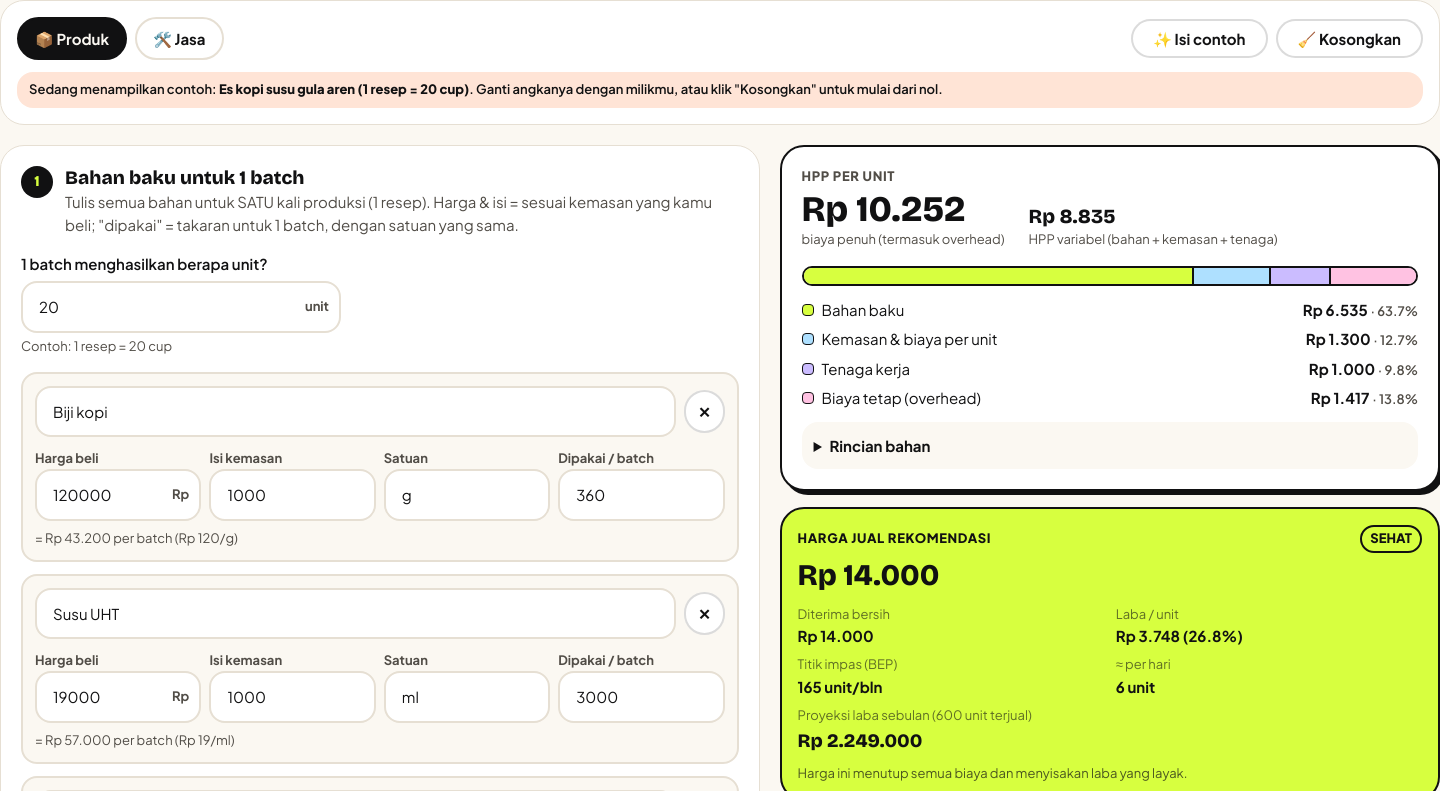
Test: Kalkulator HPP › isian tidak valid menampilkan pesan, bukan crash
The width and height of the screenshot is (1440, 791).
Replace the text in the number field labelled "1 batch menghasilkan berapa unit?" with "0" at (181, 307), box [21, 281, 341, 333]
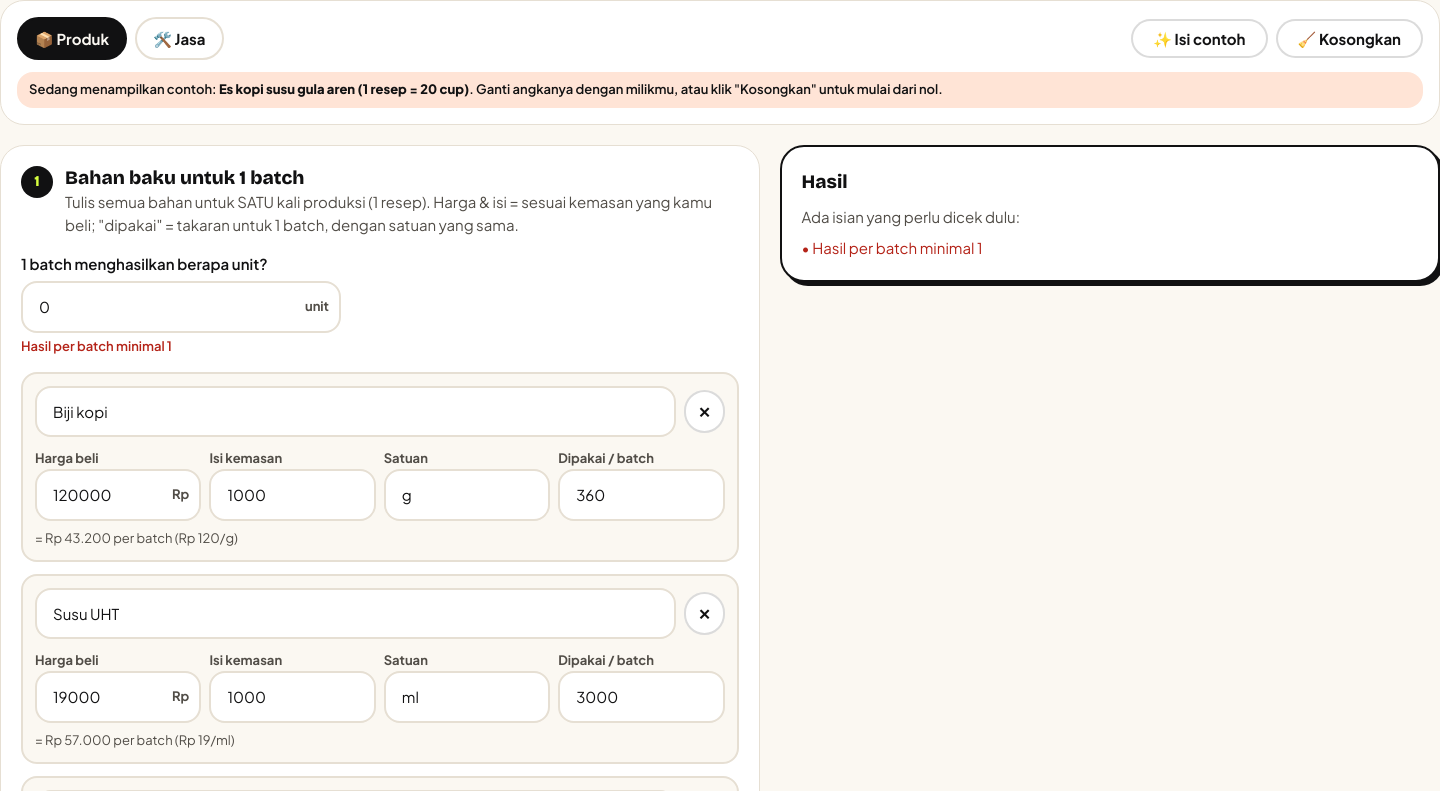
Result: the text "Ada isian yang perlu dicek dulu:" is shown at [802, 207, 1020, 226]
